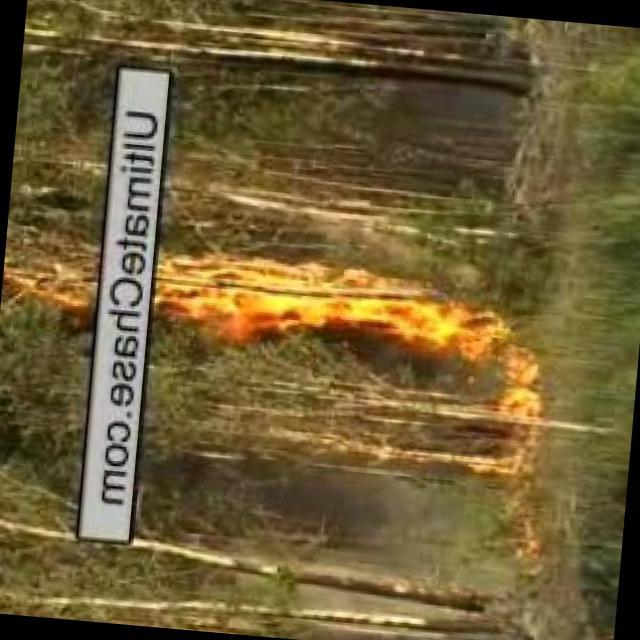Fire: (160, 252, 429, 349), (425, 297, 560, 430), (8, 260, 94, 317)
